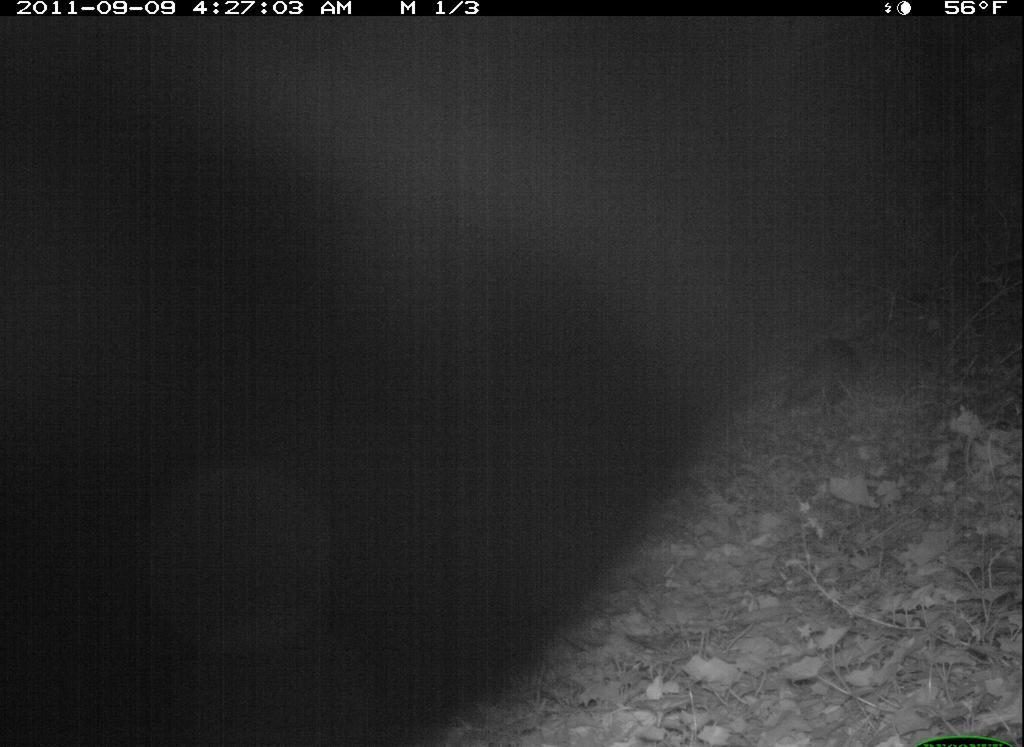opossum: (2, 18, 916, 747)
